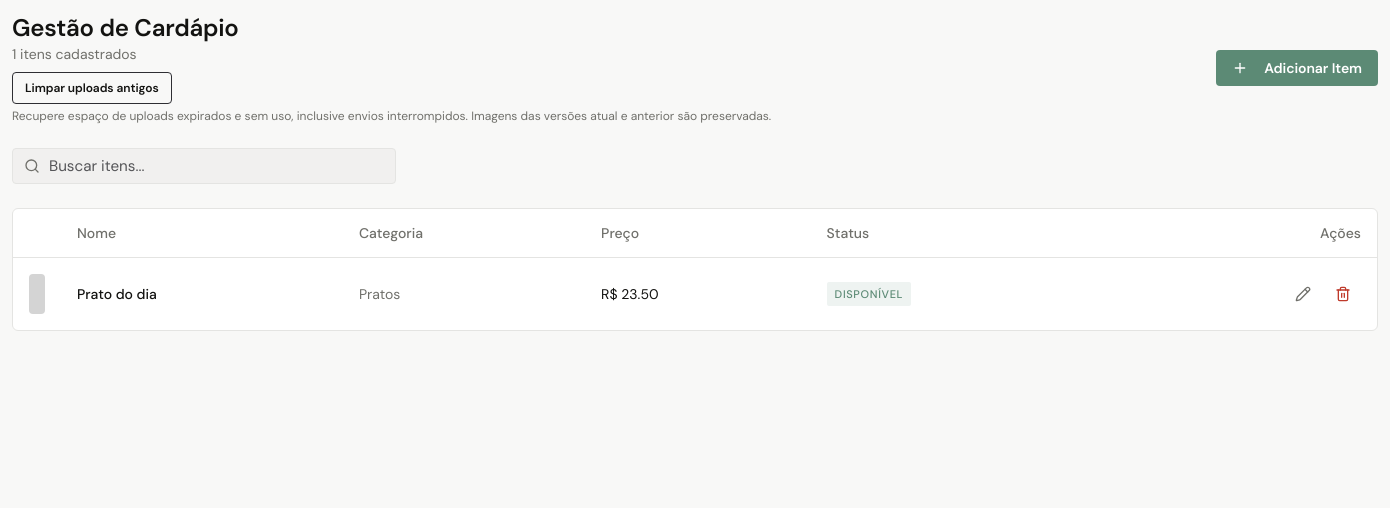
Test case: owner menu receipt and image ordering integration, reader=true › never deletes a published image or removes the row while deletion is pending
Check: the text "Prato do dia" is shown, box [77,284,157,304]
Click the button named "Remover Prato do dia" at (1343, 294), box [1325,276,1361,312]
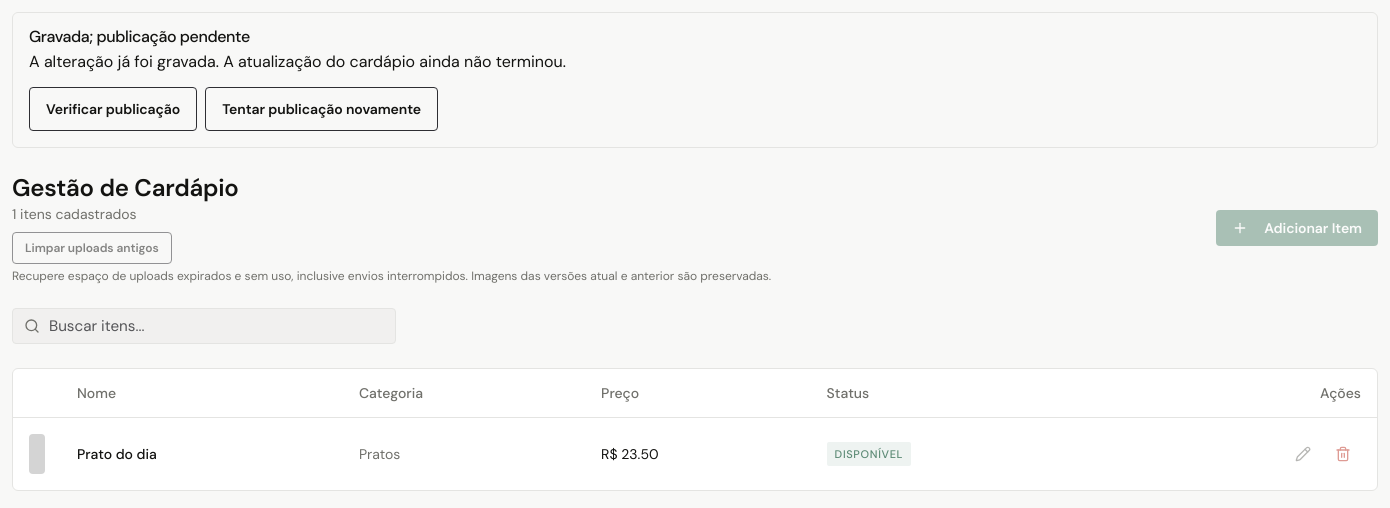
Check: the text "Prato do dia" is shown, box [77,444,157,464]
Check: the heading "Gravada; publicação pendente" is shown, box [29,26,250,47]
